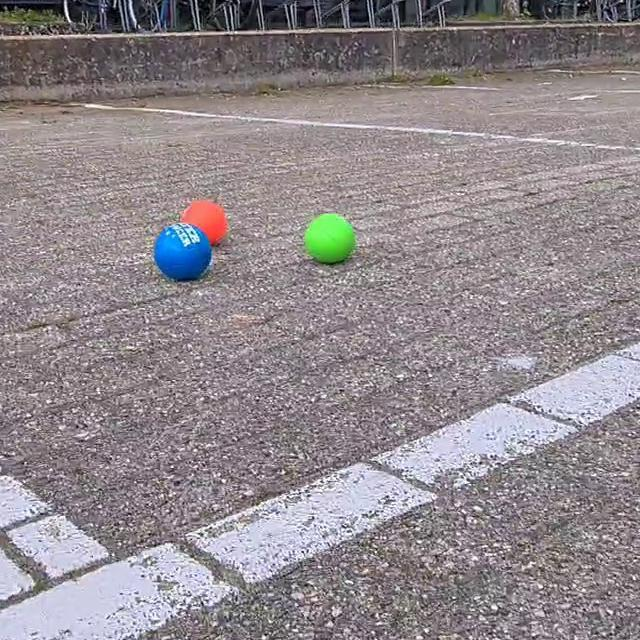ball: (152, 219, 212, 283), (304, 209, 359, 268), (182, 197, 232, 246)
